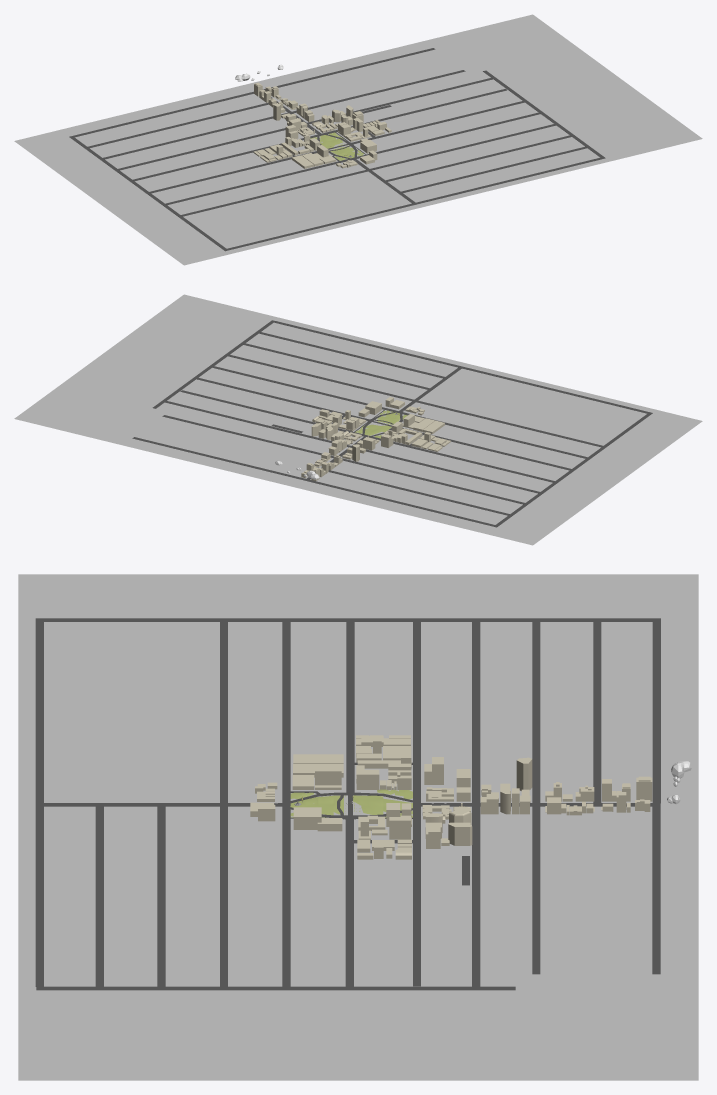
Rendered from cityTest_01_03.fbx.
3 views of the same model, one above another, from view 1: azimuth 30°, elevation 25°; view 2: azimuth 150°, elevation 25°; view 3: azimuth 270°, elevation 25° (orthographic). The views are drawn at different scales.
Visible parts, largest first — view 1: pPlane4, pavement16, pavement13, pavement6, pavement14, pavement15, pavement3, pavement5, pavement8, pavement2, pavement4, road_01_025 (+19 smaller); view 2: pPlane4, pavement6, pavement5, pavement14, pavement15, road_01_025, road_01_017, road_01_024, road_01_016, road_01_023, road_01_018, road_01_021 (+14 smaller); view 3: pPlane4, pavement9, pavement16, pavement8, pavement14, road_01_025, pavement3, road_01_026, pavement13, pavement12, pavement10, road_01_012 (+22 smaller).
Boxes of the visible parts, box(x1,y1,x2,y2) form: pPlane4: box(14, 14, 702, 265); pavement16: box(75, 94, 265, 146); pavement13: box(105, 118, 287, 168); pavement6: box(277, 56, 477, 111); pavement14: box(95, 104, 287, 157); pavement15: box(271, 45, 462, 100); pavement3: box(341, 90, 522, 142); pavement5: box(295, 67, 490, 122); pavement8: box(359, 114, 553, 168); pavement2: box(355, 103, 537, 154); pavement4: box(312, 79, 506, 129); road_01_025: box(69, 136, 228, 251); pPlane4: box(14, 294, 702, 545); pavement6: box(134, 417, 332, 462); pavement5: box(149, 402, 331, 444); pavement14: box(331, 460, 515, 513); pavement15: box(158, 430, 306, 472); road_01_025: box(493, 412, 652, 527); road_01_017: box(416, 400, 602, 447); road_01_024: box(462, 367, 649, 413); road_01_016: box(308, 480, 494, 526); road_01_023: box(274, 321, 459, 367); road_01_018: box(228, 355, 413, 401); road_01_021: box(243, 343, 429, 389); pPlane4: box(18, 574, 698, 1080); pavement9: box(228, 622, 282, 802); pavement16: box(601, 622, 650, 802); pavement8: box(228, 809, 282, 986); pavement14: box(540, 622, 593, 802); road_01_025: box(35, 618, 660, 621); pavement3: box(354, 835, 412, 986); road_01_026: box(36, 986, 515, 990); pavement13: box(480, 622, 532, 802); pavement12: box(421, 622, 471, 802); pavement10: box(290, 622, 345, 791); road_01_012: box(532, 622, 540, 802).
Size of the model in its own units: 2052 by 64.47 by 1164.
